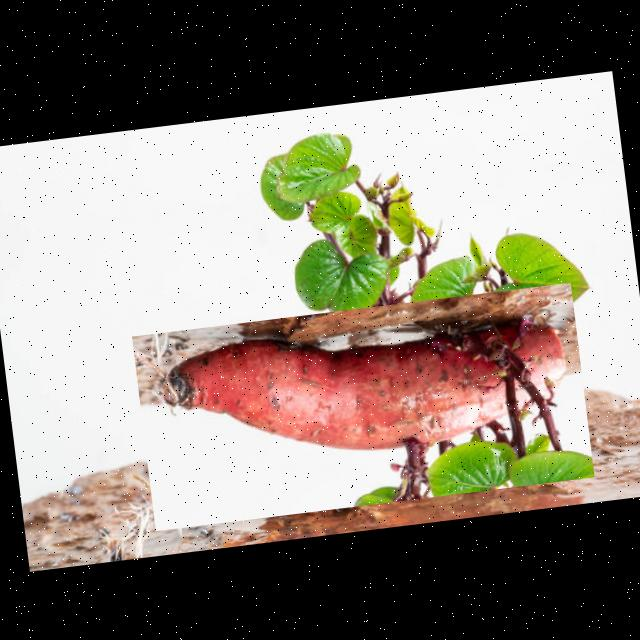Sprouted potato: (130, 282, 593, 530)
